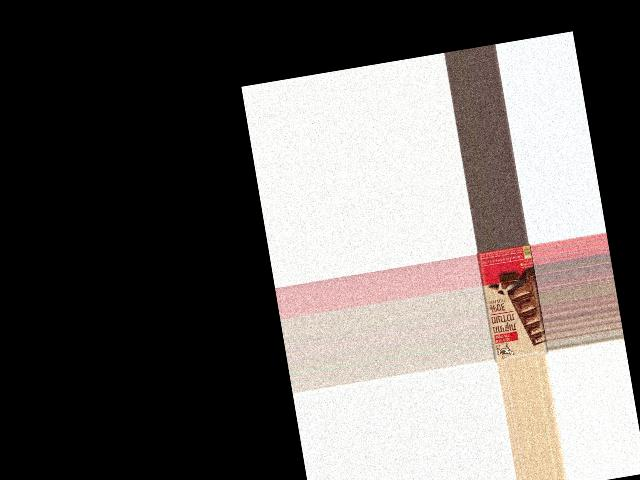chocolate: (476, 244, 548, 362)
